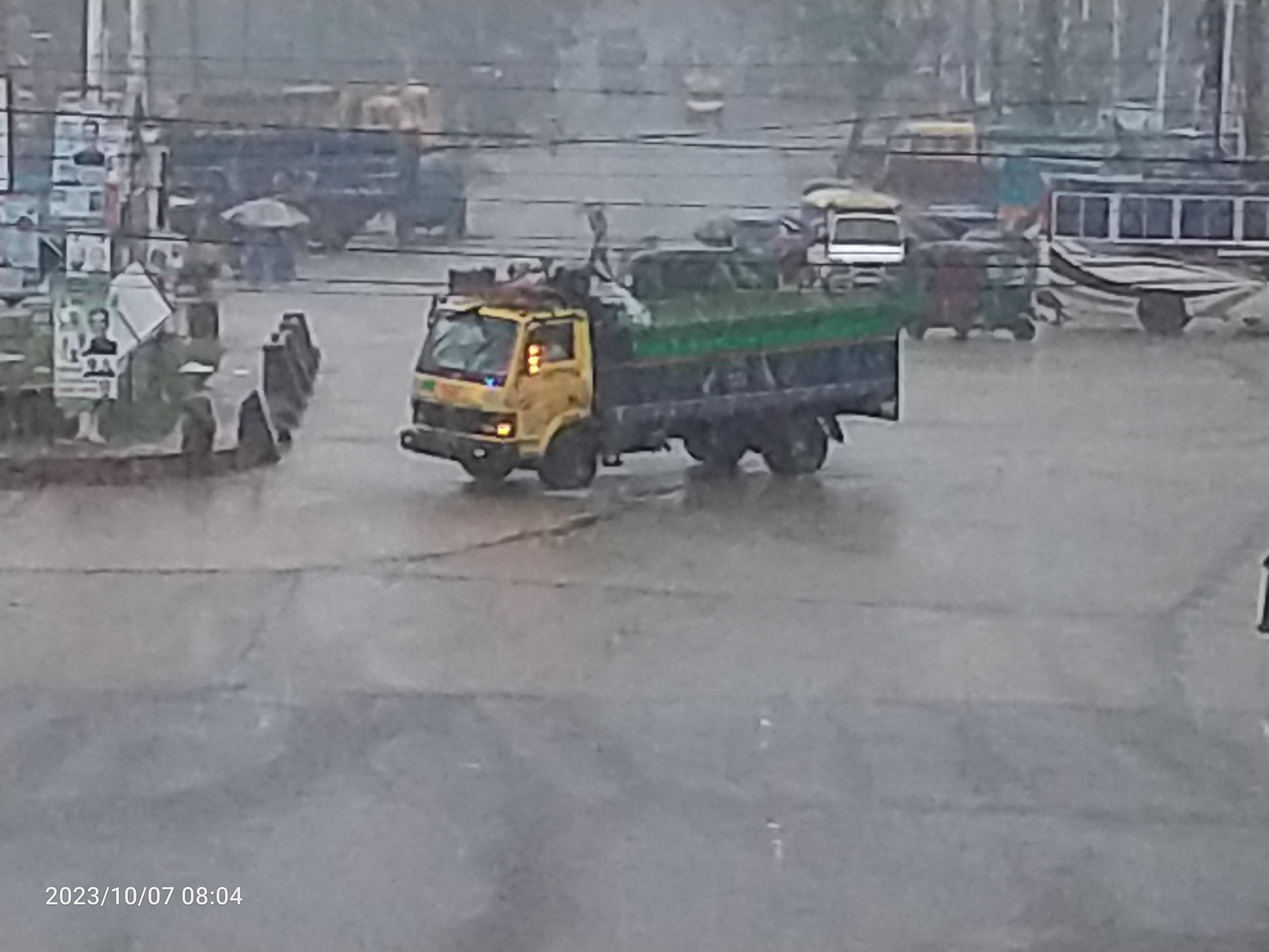Bus: (1041, 158, 1269, 355)
Car: (790, 168, 912, 302)
Truck: (385, 251, 928, 511), (122, 68, 420, 266)
